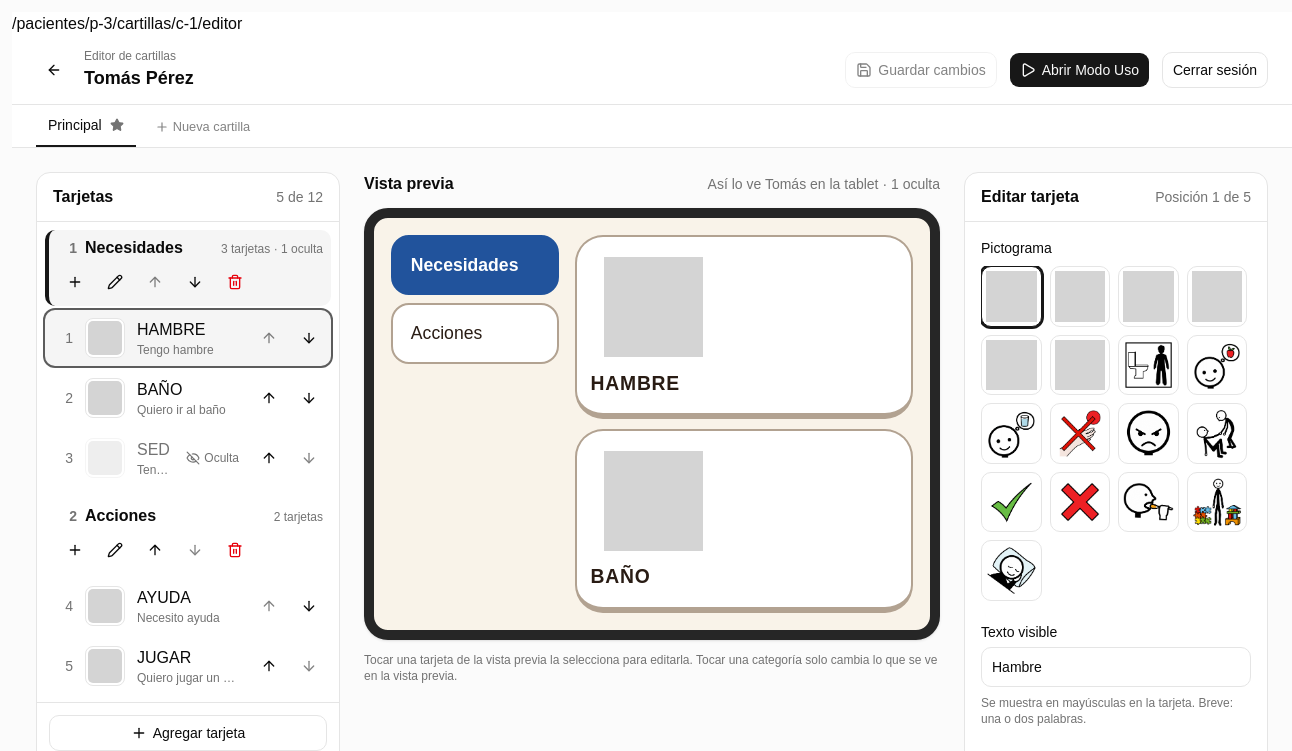
Scenario: BoardEditorPage saving › sends the new orders when a card is moved inside its category
This screenshot has width=1292, height=751.
Check: the heading "Tomás Pérez" is shown, box [84,64,194,92]
Click the button named "Mover Baño después": (309, 398) [291,380,327,416]
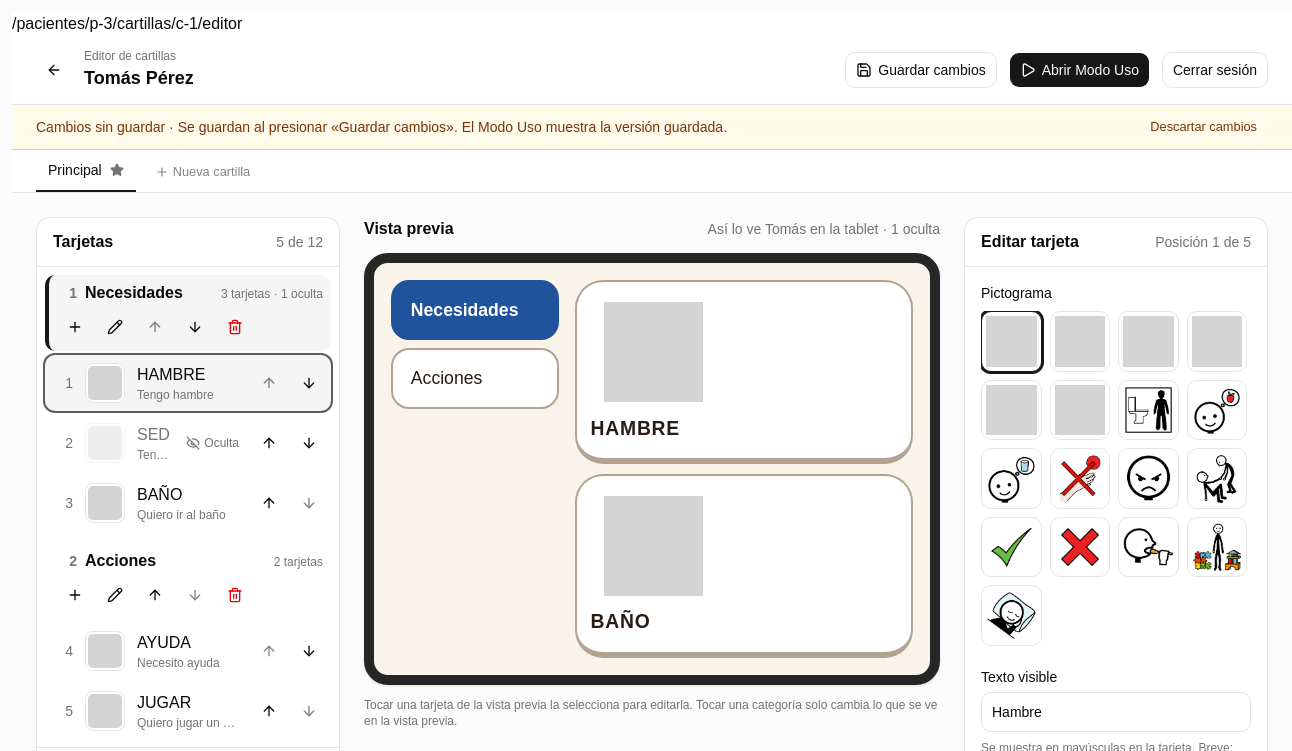
Click the button "Guardar cambios": (921, 70) [845,52,997,88]
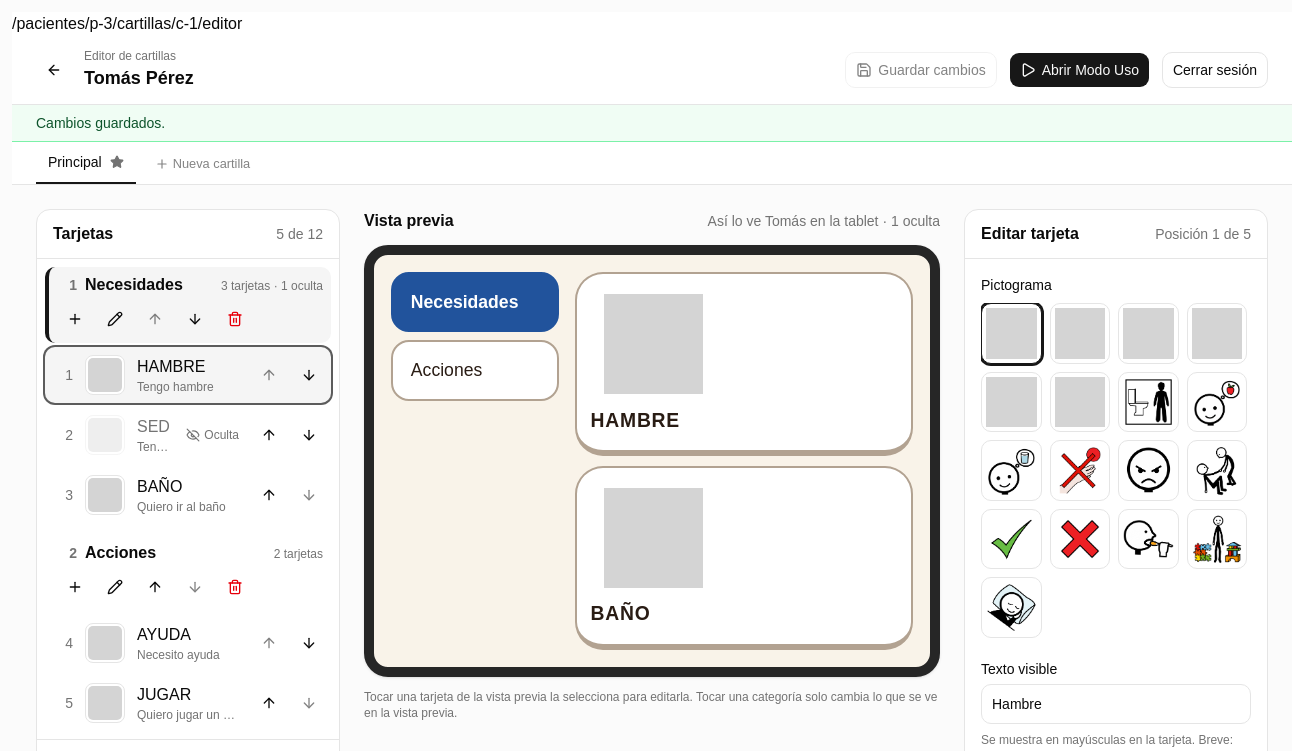
Check: the text "Cambios guardados." is shown, box [12,105,1291,142]
